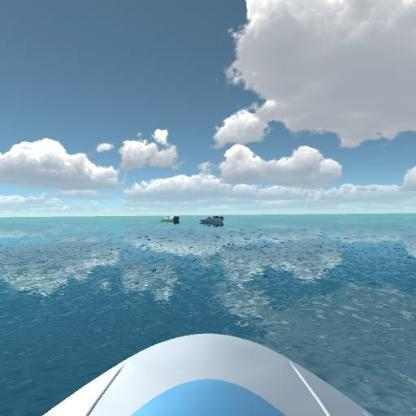usv0: (155, 209, 182, 226)
usv1: (200, 212, 227, 227)
